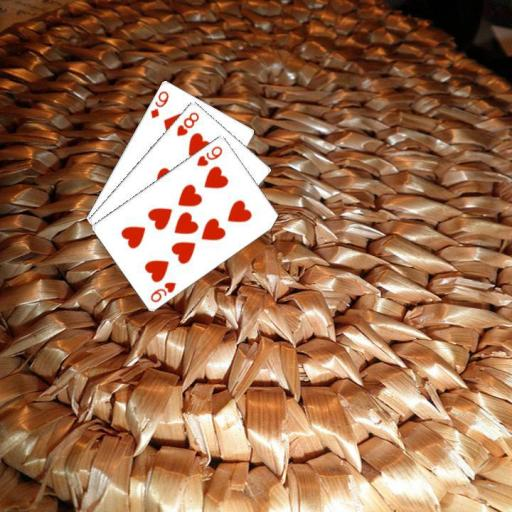8H: (174, 108, 201, 137)
9D: (147, 88, 170, 120)
9H: (193, 142, 224, 168), (147, 278, 178, 304)
